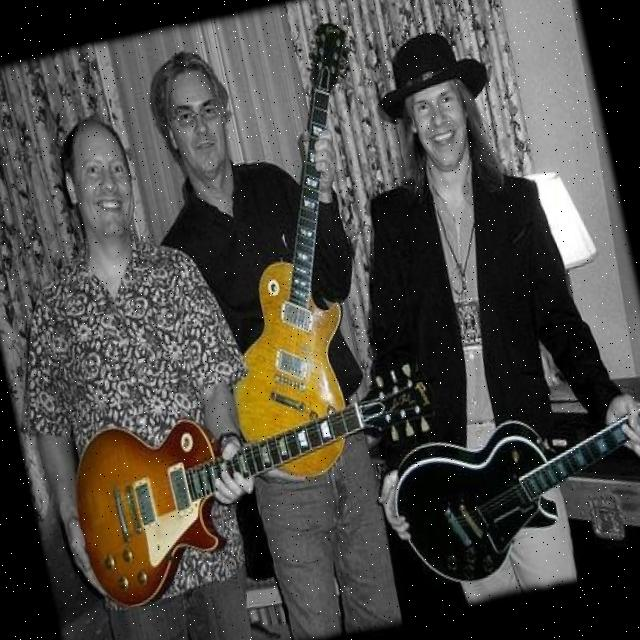guitar: (155, 3, 446, 494), (60, 352, 468, 616), (372, 384, 640, 599)
